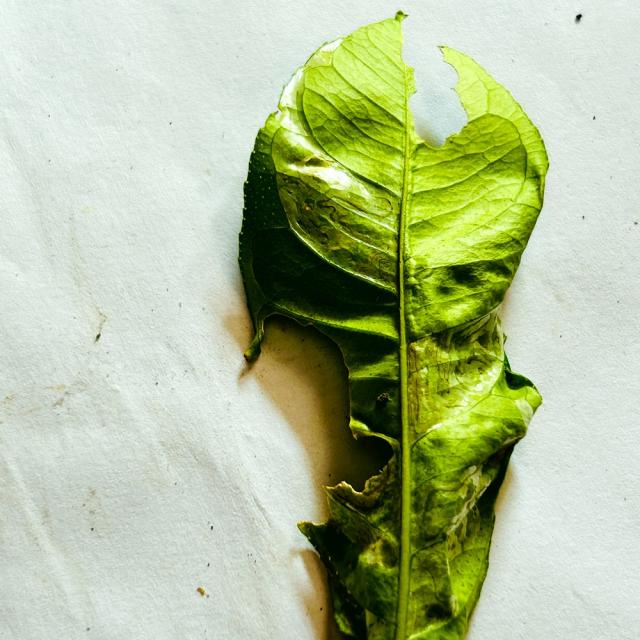Deficiency Leaf: (250, 316, 379, 523), (499, 207, 561, 392), (402, 15, 467, 147)
Lemon: (239, 12, 548, 639)
